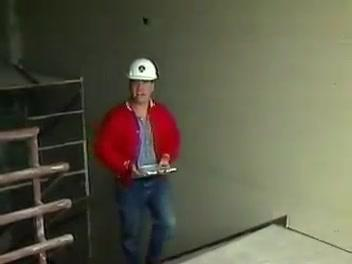no -hi-vis jacket: (103, 101, 176, 183)
